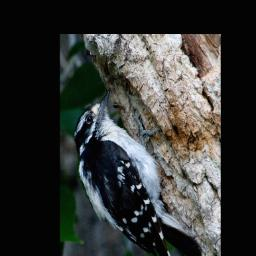Woodpecker: (71, 89, 215, 256)
